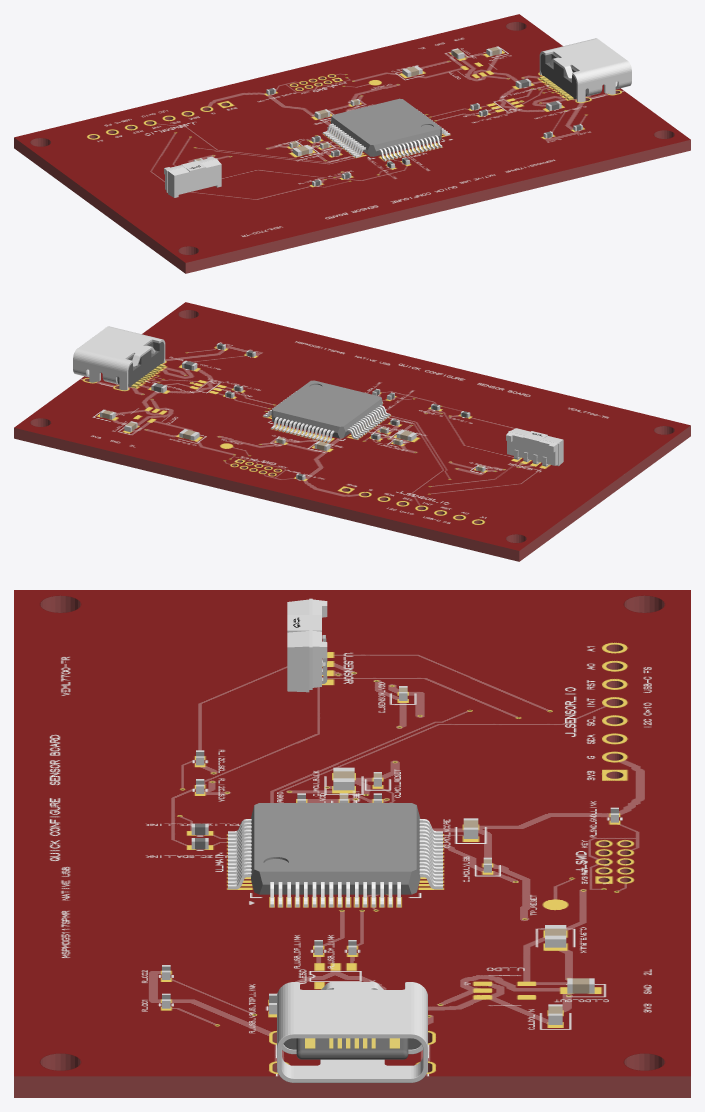
3 renders of one model, top to bottom at view 1: azimuth 30°, elevation 25°; view 2: azimuth 150°, elevation 25°; view 3: azimuth 270°, elevation 25°, orthographic. The views are drawn at different scales.
Parts seen in each view (by area): view 1: Box0, U_MAIN, J_USB, U_SENSOR; view 2: Box0, U_MAIN, J_USB, U_SENSOR; view 3: Box0, U_MAIN, J_USB, U_SENSOR.
Boxes of the visible parts, x1,y1,x2,y2 form: Box0: (14, 14, 690, 273); U_MAIN: (322, 98, 450, 161); J_USB: (539, 38, 631, 102); U_SENSOR: (164, 156, 221, 197); Box0: (14, 302, 690, 561); U_MAIN: (263, 380, 390, 442); J_USB: (73, 326, 165, 390); U_SENSOR: (506, 428, 563, 466); Box0: (14, 590, 690, 1097); U_MAIN: (228, 803, 442, 907); J_USB: (277, 982, 427, 1082); U_SENSOR: (287, 598, 327, 692).
Size of the model in its own units: 69.04 by 4.65 by 40.
Materials: 15 (2 with a texture image).
